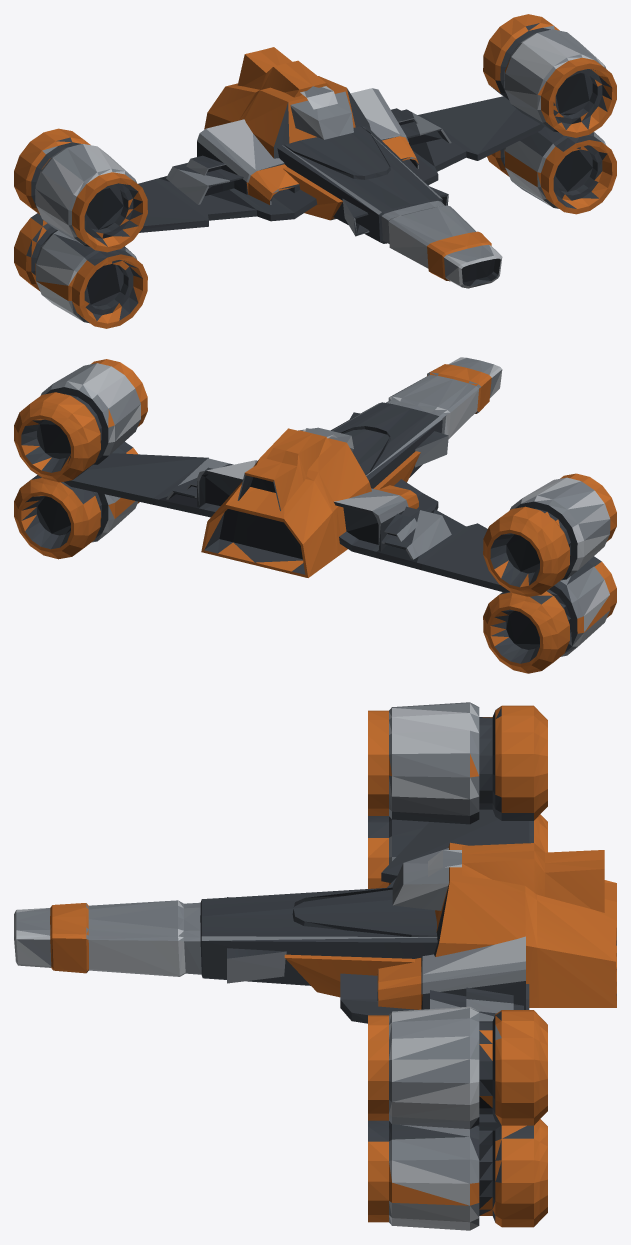
File: Ship_Mule_LP.fbx
The picture shows the model from 3 angles, top to bottom: view 1: azimuth 30°, elevation 25°; view 2: azimuth 150°, elevation 25°; view 3: azimuth 270°, elevation 25°; orthographic projection. The views are drawn at different scales.
Visible parts, largest first — view 1: Ship_Mule_LP; view 2: Ship_Mule_LP; view 3: Ship_Mule_LP.
Boxes of the visible parts, box(x1,y1,x2,y2) form: Ship_Mule_LP: box(14, 14, 616, 328); Ship_Mule_LP: box(14, 357, 616, 673); Ship_Mule_LP: box(14, 702, 616, 1230).
Size of the model in its own units: 18.16 by 5.27 by 13.
